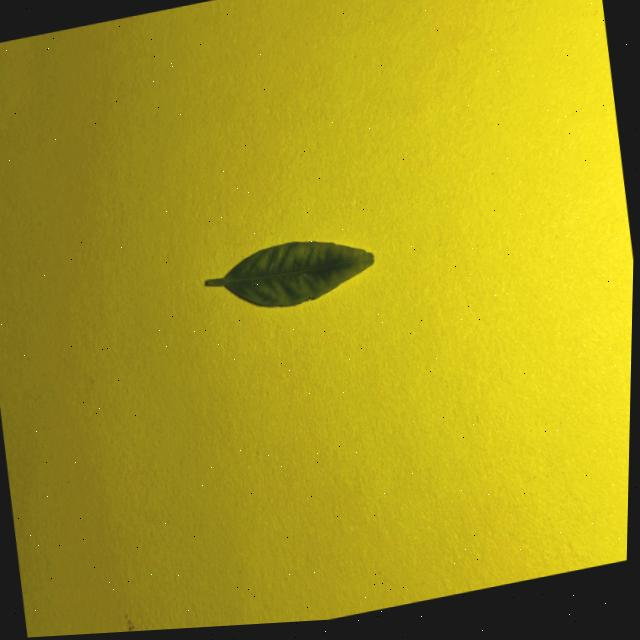greening: (206, 240, 374, 305)
